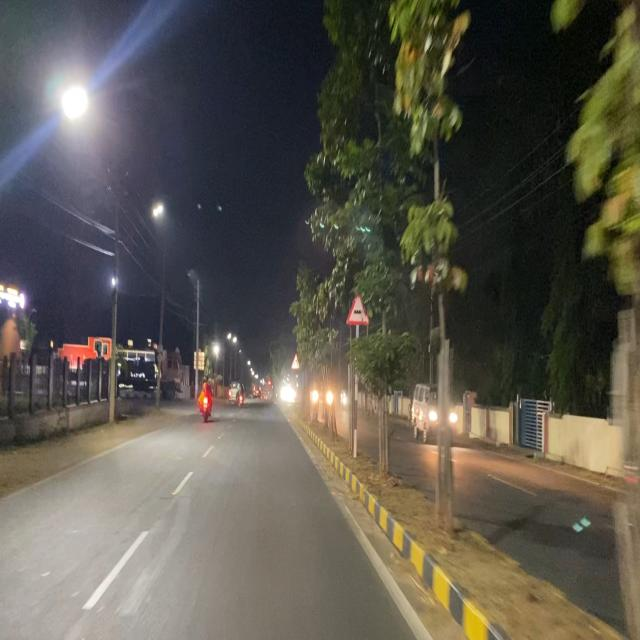bien_cam: (346, 287, 370, 327)
